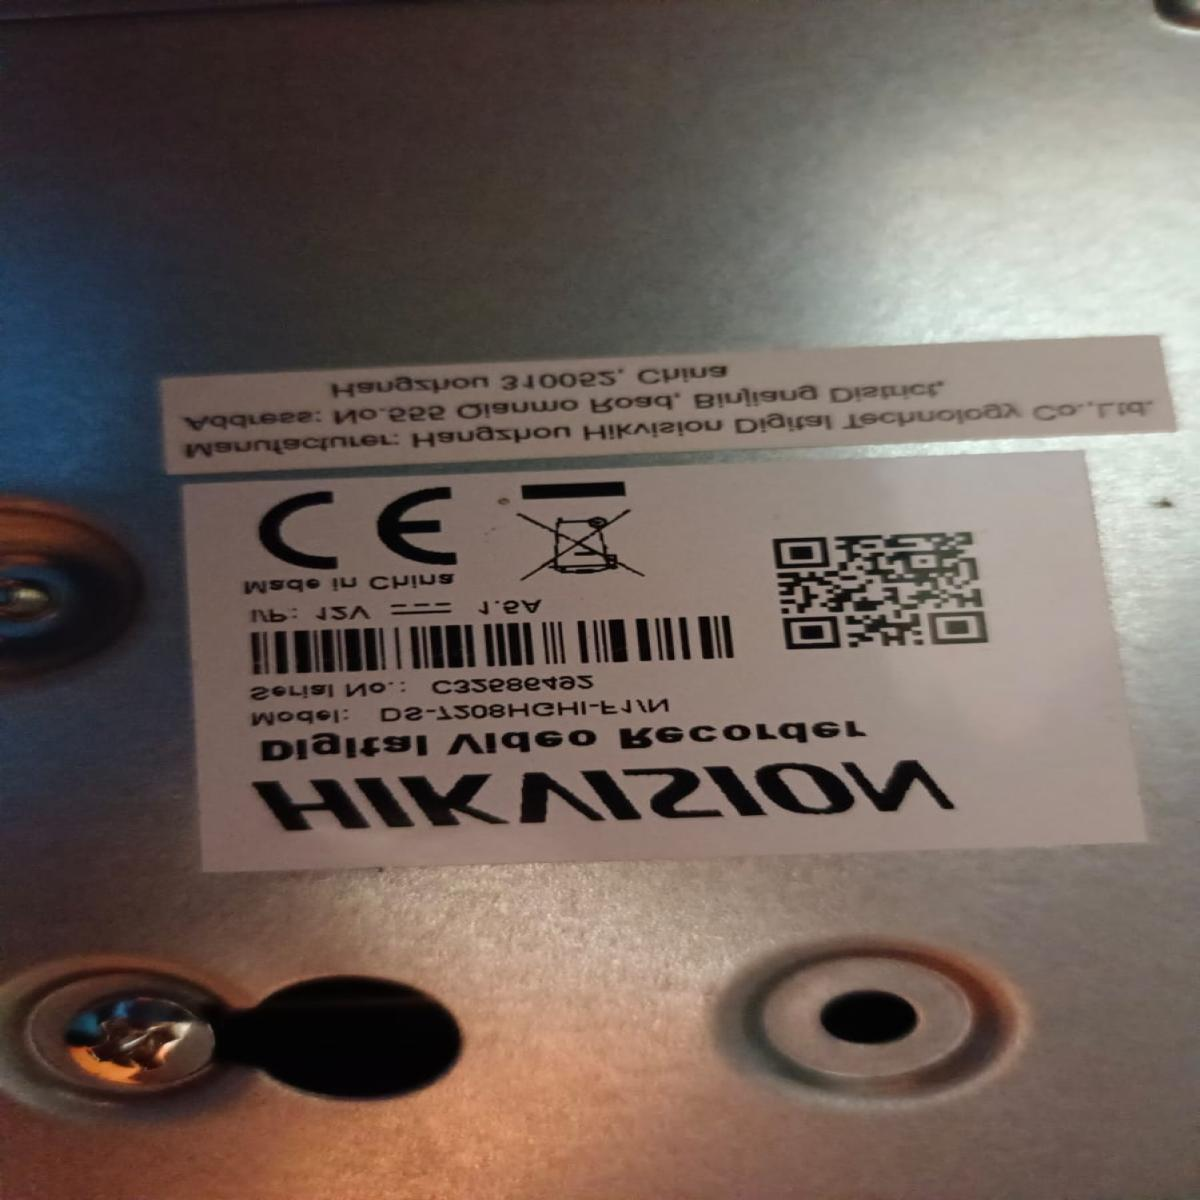Barcode: (231, 611, 764, 684)
Label: (187, 449, 1148, 870)
